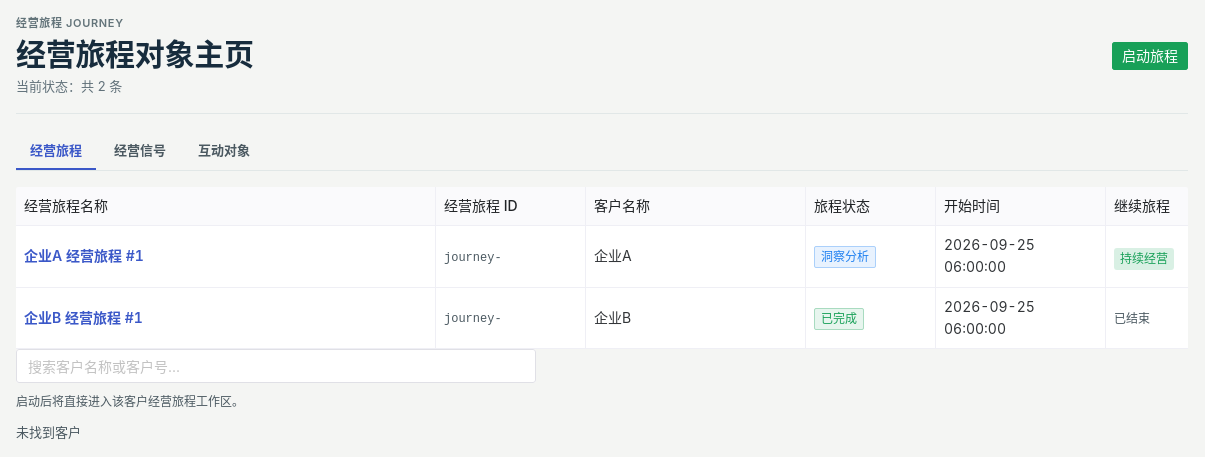
Test: P45 JourneyListView（经营旅程列表） › surfaces a customer-list error inside the picker instead of silently showing none
Click the button with test id "p45-start-journey". click: (1150, 56)
box: [1112,42,1188,70]
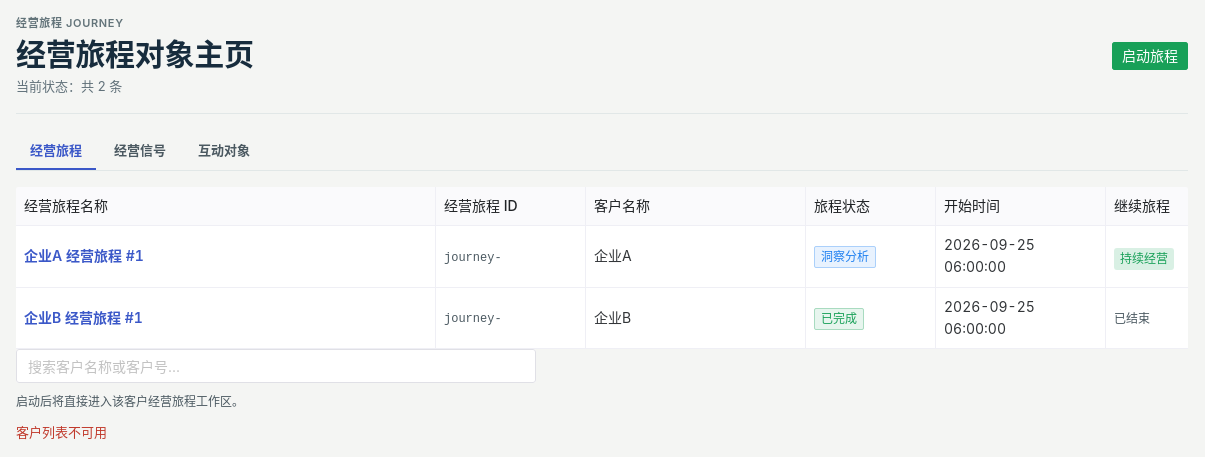
Check: the text with test id "p45-customers-error" reads "客户列表不可用", box [16,424,107,440]
